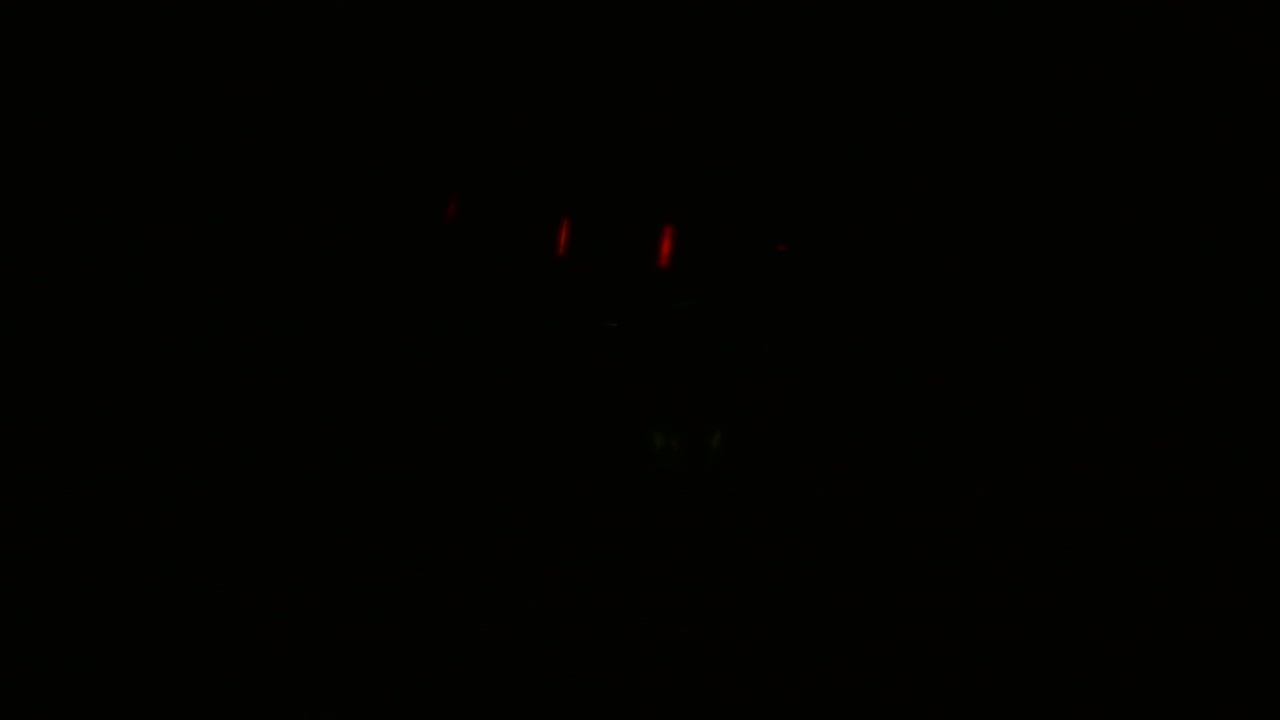pair1: (555, 214, 674, 268)
